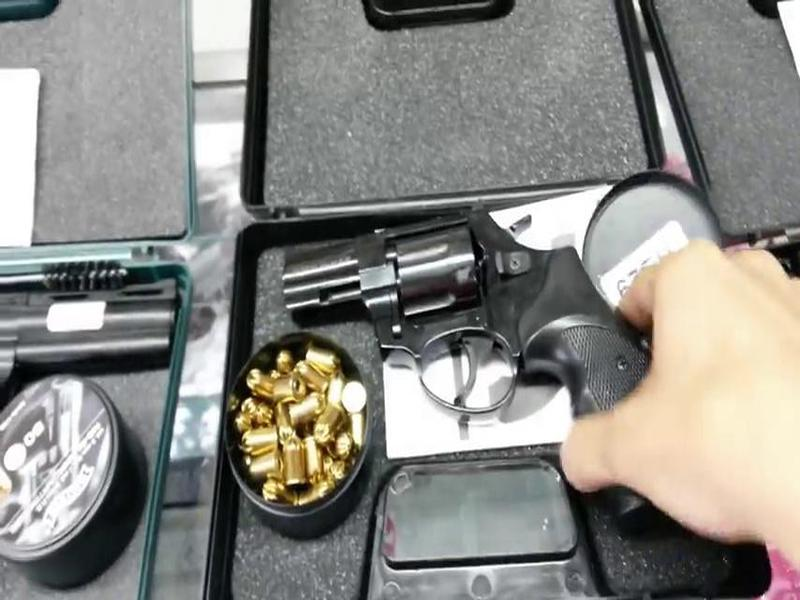Revolver: (276, 206, 676, 505)
